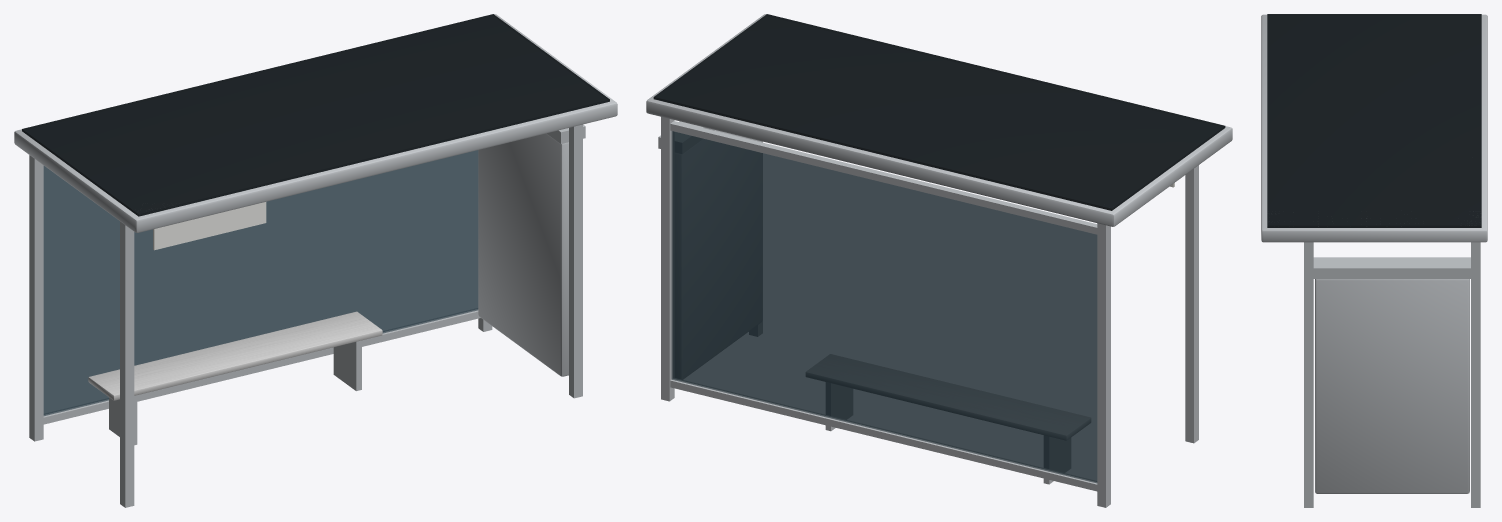
File: bus_shelter.glb
The picture shows the model from 3 angles, left to right: view 1: azimuth 30°, elevation 25°; view 2: azimuth 150°, elevation 25°; view 3: azimuth 270°, elevation 25°; orthographic projection. The views are drawn at different scales.
Visible parts, largest first — view 1: body; view 2: body; view 3: body.
Boxes of the visible parts, <box> form: body: <box>14,14,617,507</box>; body: <box>646,14,1232,507</box>; body: <box>1261,14,1487,507</box>.
Bounding box in the file's own units: 4.3 × 2.65 × 1.9.
Materials: 6 (2 with a texture image).
